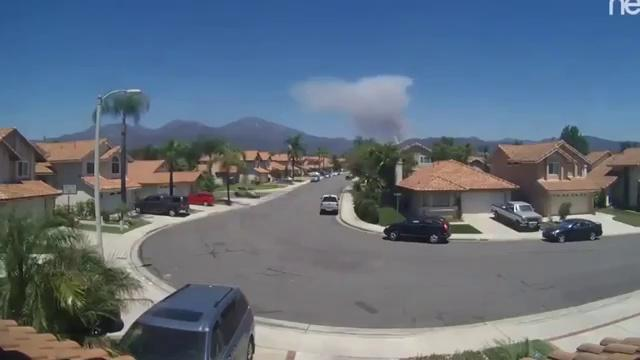smoke: (353, 84, 402, 143)
